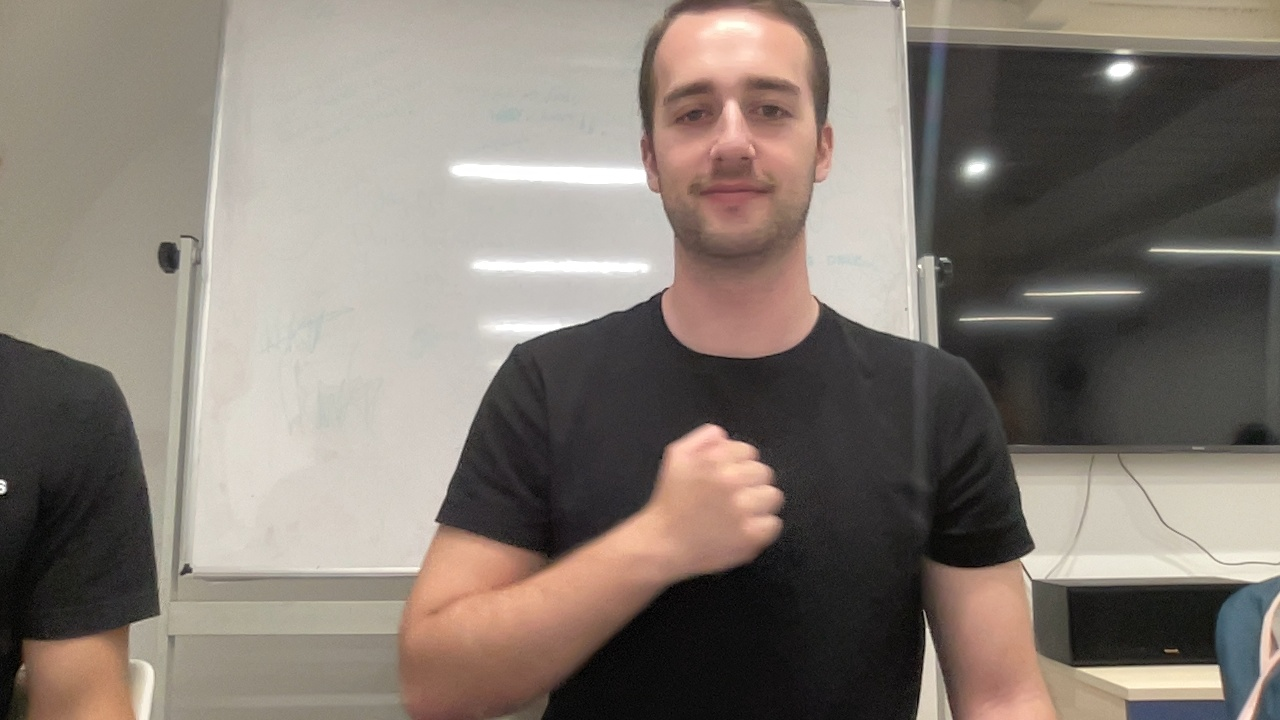Sorry: (392, 416, 787, 720)
